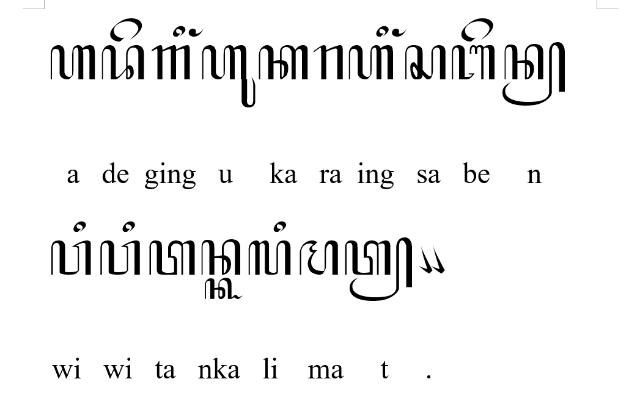-n: (502, 42, 566, 106)
-t: (344, 237, 414, 301)
_k: (204, 277, 243, 300)
b: (451, 44, 495, 80)
d: (100, 45, 146, 82)
e: (461, 18, 494, 42), (110, 18, 142, 42)
g: (151, 44, 191, 80)
h: (348, 45, 394, 82), (50, 45, 96, 81)
hu: (202, 44, 256, 108)
i: (122, 221, 136, 233), (173, 25, 185, 37), (376, 25, 388, 37), (274, 221, 286, 233), (72, 222, 86, 232)
k: (258, 44, 308, 80)
kom: (431, 245, 445, 275), (418, 246, 432, 274)
l: (248, 240, 292, 277)
m: (299, 240, 339, 276)
n: (200, 239, 242, 277)
ng: (392, 27, 408, 37), (188, 28, 204, 36)
r: (312, 45, 343, 81)
s: (404, 44, 446, 80)
t: (148, 240, 196, 276)
w: (50, 240, 92, 276), (100, 240, 140, 276)
